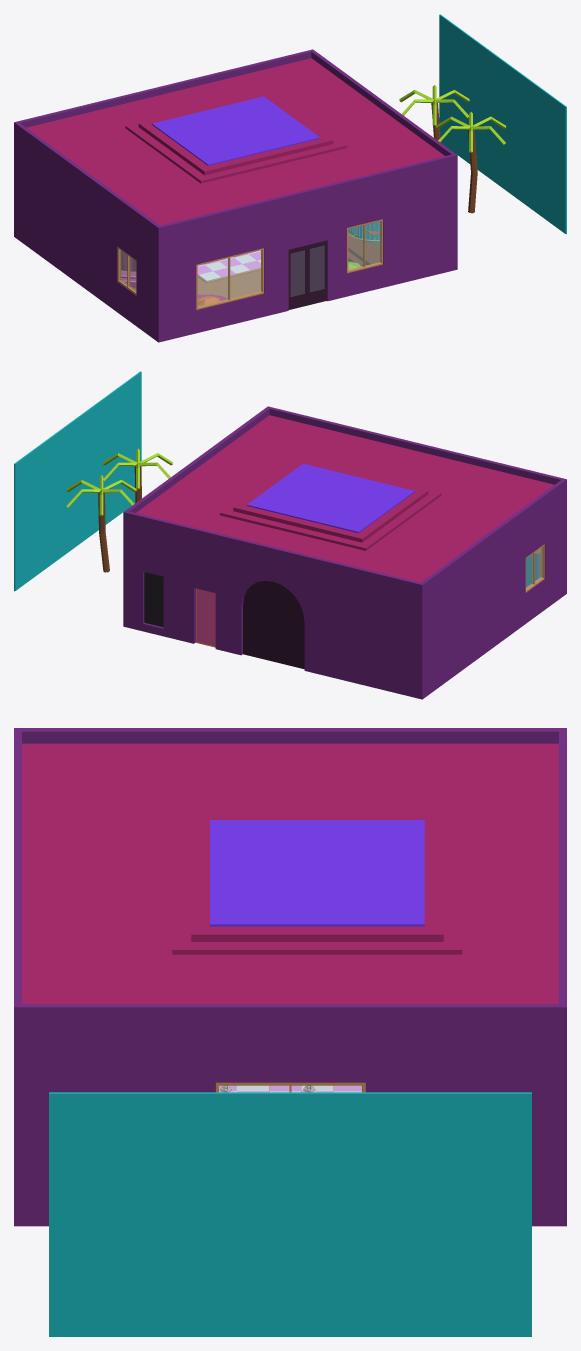
The picture shows the model from 3 angles, top to bottom: view 1: azimuth 30°, elevation 25°; view 2: azimuth 150°, elevation 25°; view 3: azimuth 270°, elevation 25°; orthographic projection. The views are drawn at different scales.
Visible parts, largest first — view 1: sky, wall_l_b, ceiling_front, wall_f_3, ceiling_back, coffer_top, ceiling_left, wall_f_0, ceiling_right, wall_f_head_0, wall_f_1, wall_l_a (+31 smaller); view 2: sky, wall_b_a, wall_l_b, ceiling_front, coffer_top, ceiling_left, ceiling_back, ceiling_right, wall_b_c, wall_b_b, wall_b_arch_head, wall_l_a (+24 smaller); view 3: sky, ceiling_front, ceiling_back, coffer_top, wall_r_a, wall_r_b, ceiling_left, ceiling_right, wall_r_head, wall_l_b, soffit_1_r, soffit_0_r (+10 smaller).
Boxes of the visible parts, x1,y1,x2,y2 form: sky: [439, 14, 566, 234]; wall_l_b: [14, 121, 120, 311]; ceiling_front: [128, 132, 444, 225]; wall_f_3: [382, 153, 457, 287]; ceiling_back: [26, 58, 336, 145]; coffer_top: [152, 96, 319, 165]; ceiling_left: [52, 128, 200, 201]; wall_f_0: [156, 217, 196, 342]; ceiling_right: [274, 76, 411, 147]; wall_f_head_0: [194, 201, 264, 264]; wall_f_1: [262, 195, 288, 316]; wall_l_a: [136, 211, 162, 341]; sky: [14, 371, 141, 591]; wall_b_a: [304, 555, 424, 699]; wall_l_b: [418, 509, 525, 699]; ceiling_front: [230, 415, 554, 513]; coffer_top: [247, 463, 414, 533]; ceiling_left: [366, 495, 514, 568]; ceiling_back: [136, 499, 438, 582]; ceiling_right: [155, 444, 292, 515]; wall_b_c: [163, 520, 195, 643]; wall_b_b: [215, 533, 242, 655]; wall_b_arch_head: [241, 539, 306, 621]; wall_l_a: [542, 478, 566, 609]; sky: [49, 1092, 531, 1336]; ceiling_front: [22, 743, 172, 1003]; ceiling_back: [462, 743, 558, 1003]; coffer_top: [210, 820, 424, 926]; wall_r_a: [14, 1004, 215, 1226]; wall_r_b: [365, 1004, 566, 1226]; ceiling_left: [172, 743, 462, 813]; ceiling_right: [172, 954, 462, 1003]; wall_r_head: [215, 1004, 365, 1082]; wall_l_b: [172, 728, 566, 743]; soffit_1_r: [210, 926, 424, 941]; soffit_0_r: [191, 942, 443, 954].
Bounding box in the file's own units: 17.17 × 5.04 × 10.3.
